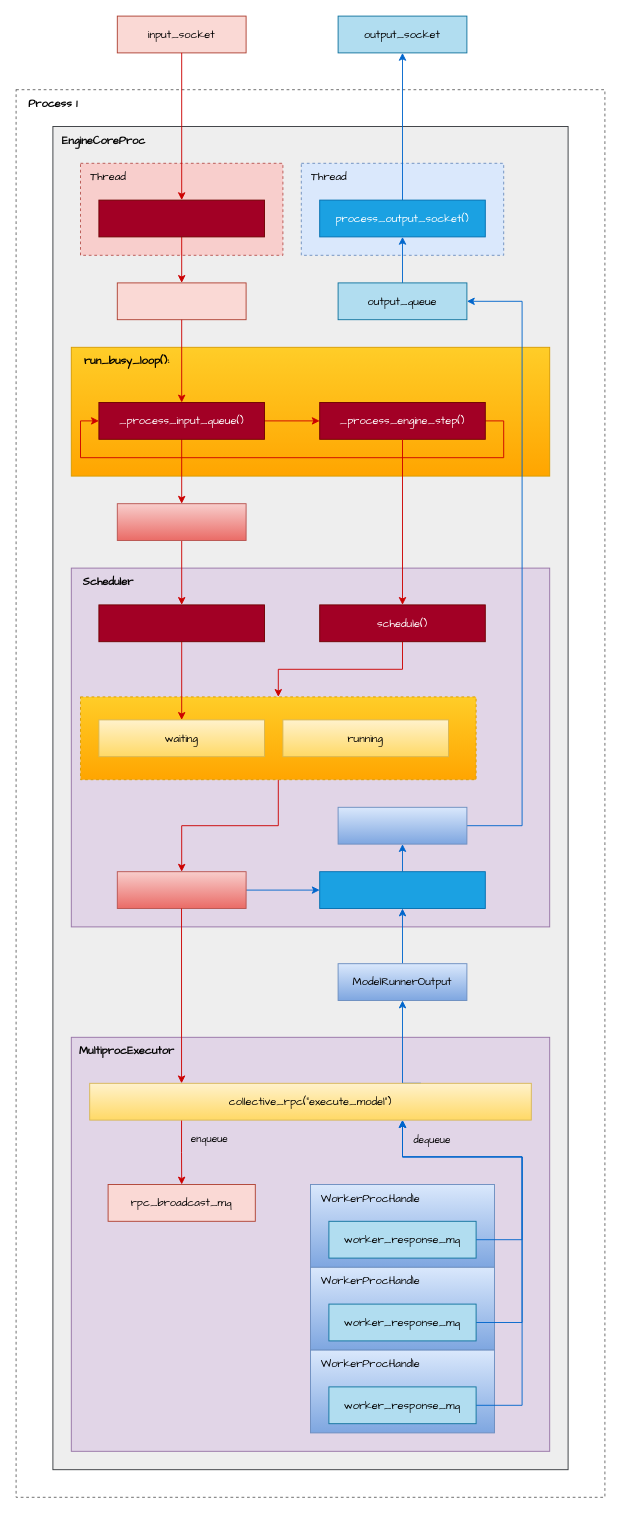
The diagram is 621 pixels wide and 1513 high, and some of its shapes have lost their labels. The centre of each missing label's shape, as x and y in pixels:
"add_request()" goes at point 181,623.
"EngineCoreOutputs" goes at point 402,825.
"input_queue" goes at point 181,301.
"process_input_socket()" goes at point 181,218.
"Request" goes at point 181,521.
"SchedulerOutput" goes at point 181,889.
"update_from_output()" goes at point 402,889.
